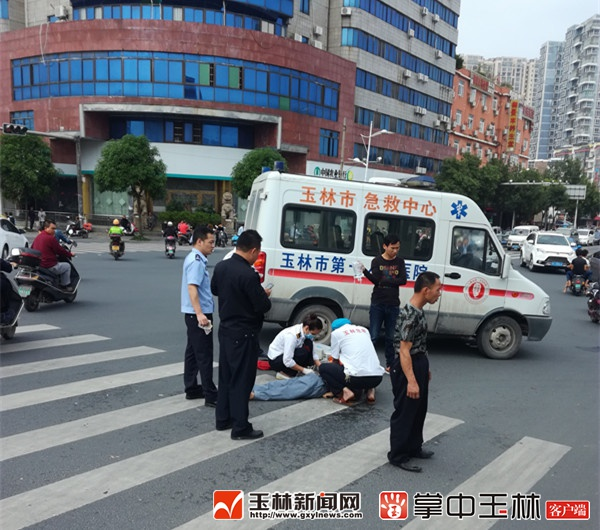fall: (237, 355, 353, 405)
